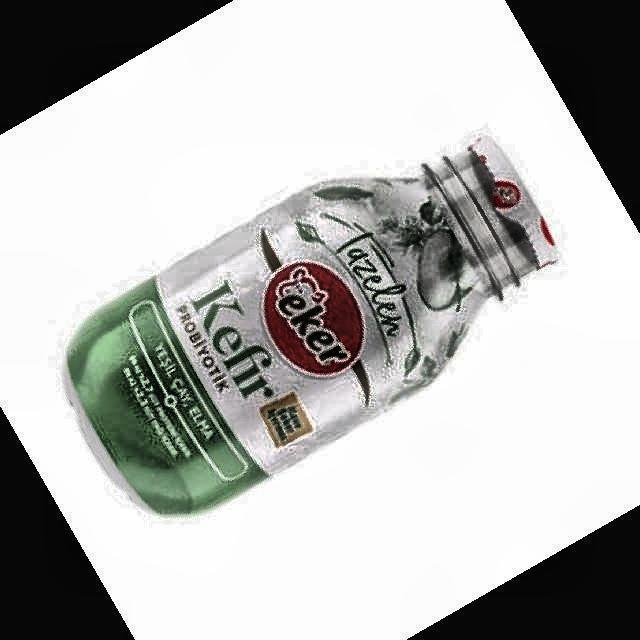plastic: (65, 138, 558, 514)
